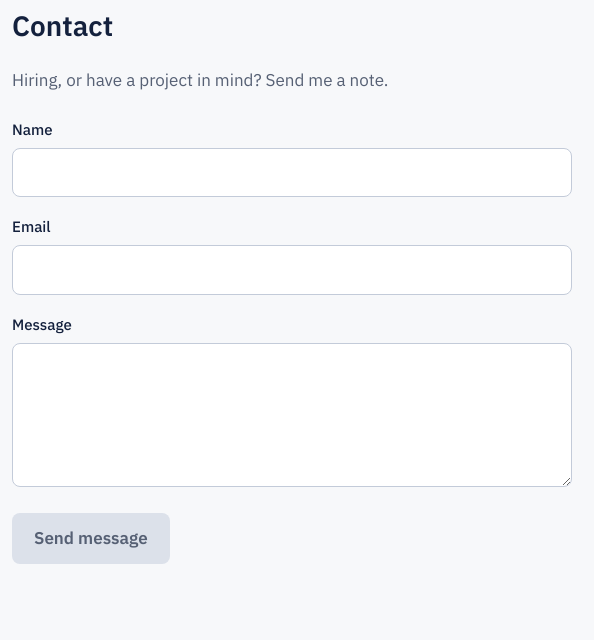
Contact › sends the form through EmailJS, confirms, and clears the fields
This screenshot has width=594, height=640.
Type "Test User" into the field labelled "Name" at (292, 173), box [12,148,572,197]
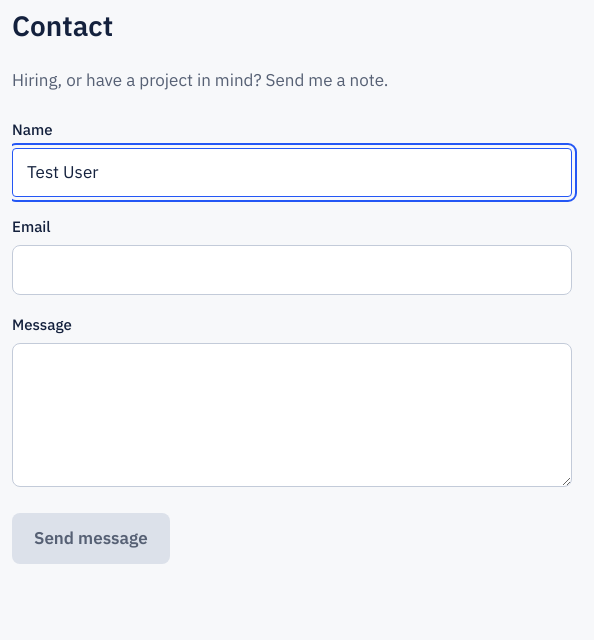
Type "test@example.com" into the field labelled "Email" at (292, 270), box [12,245,572,295]
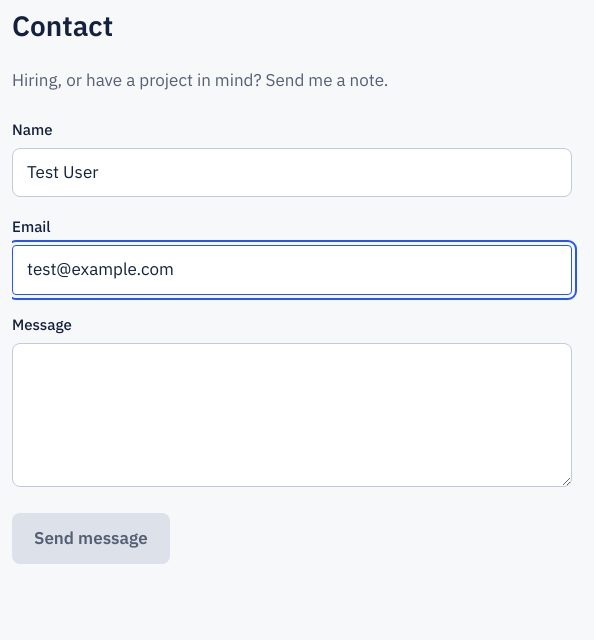
Type "Hello!" into the text box labelled "Message" at (292, 415), box [12,343,572,487]
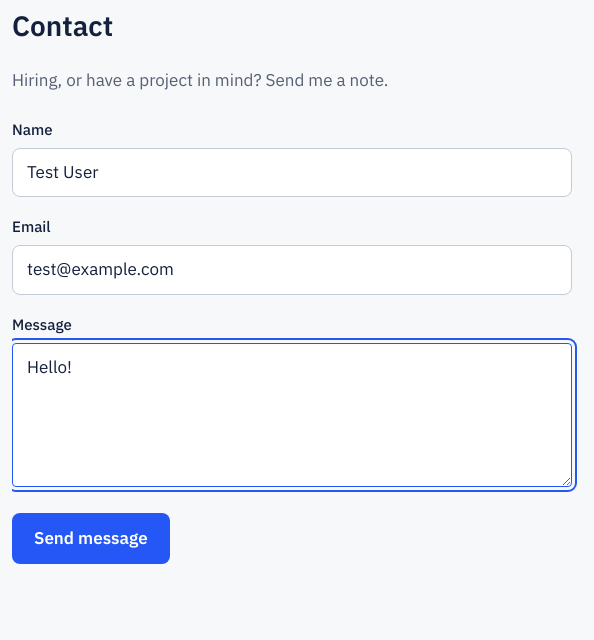
Click the button "Send message" at (91, 538), box [12,513,170,564]
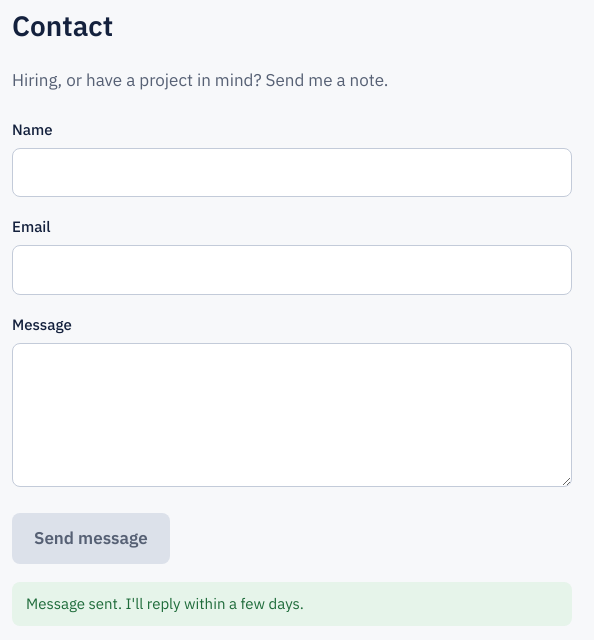
Check: the text "Message sent. I'll reply within a few days." is shown, box [12,582,572,626]
Check: the field labelled "Name" is empty, box [12,148,572,197]
Check: the field labelled "Email" is empty, box [12,245,572,295]
